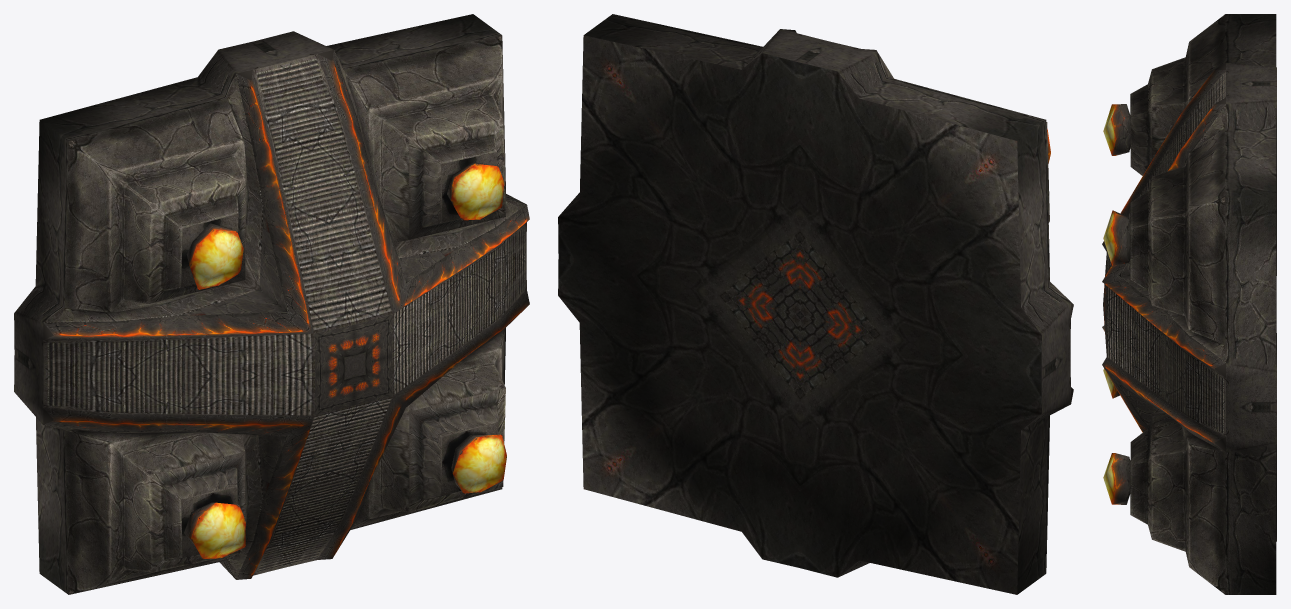
Rendered from Altar-01.obj.
The picture shows the model from 3 angles, left to right: view 1: azimuth 30°, elevation 25°; view 2: azimuth 150°, elevation 25°; view 3: azimuth 270°, elevation 25°; orthographic projection. The views are drawn at different scales.
Visible parts, largest first — view 1: (null); view 2: (null); view 3: (null).
Boxes of the visible parts, x1,y1,x2,y2 form: (null): (14,14,529,594); (null): (558,14,1073,594); (null): (1102,14,1276,594).
Size of the model in its own units: 10.39 by 10.39 by 3.73.
